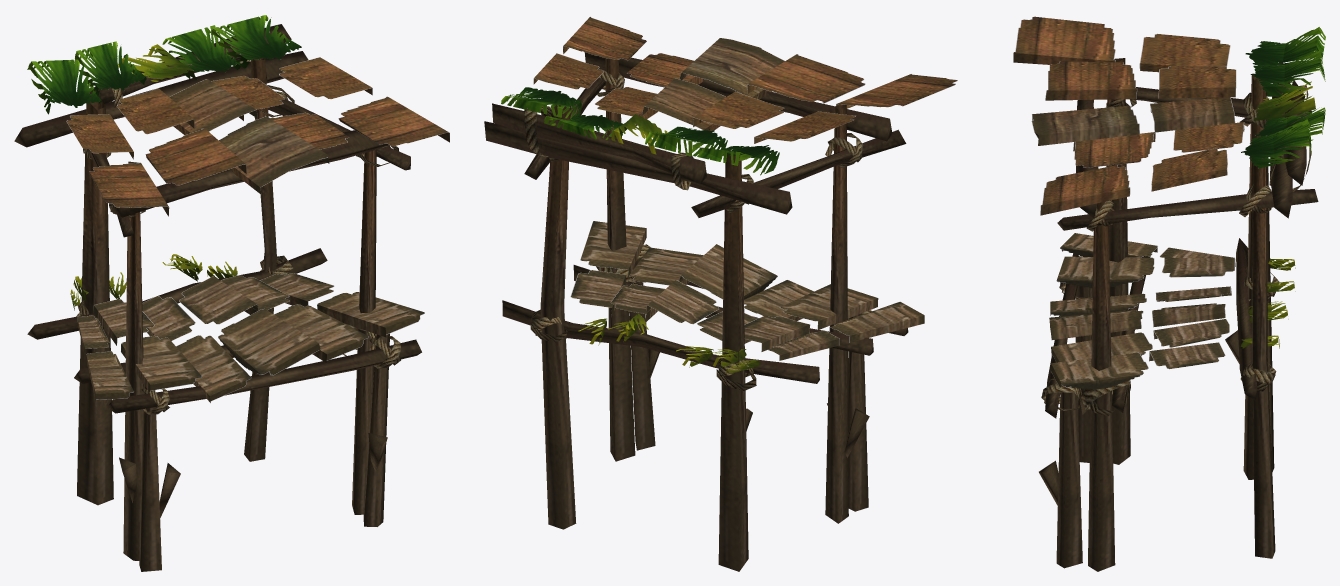
Rendered from House01.FBX.
The picture shows the model from 3 angles, left to right: view 1: azimuth 30°, elevation 25°; view 2: azimuth 150°, elevation 25°; view 3: azimuth 270°, elevation 25°; orthographic projection. The views are drawn at different scales.
Visible parts, largest first — view 1: House01; view 2: House01; view 3: House01.
Boxes of the visible parts, x1,y1,x2,y2 form: House01: [14, 15, 449, 571]; House01: [484, 16, 957, 571]; House01: [1013, 16, 1325, 571].
Bounding box in the file's own units: 276 × 314 × 213.
